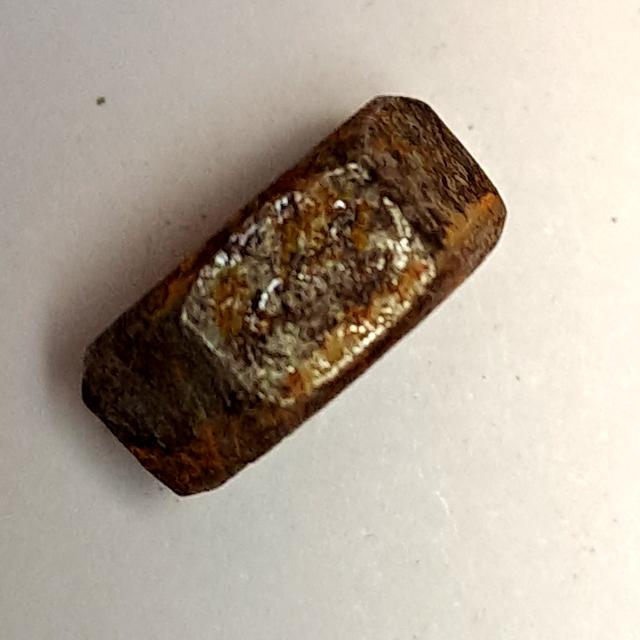Side_Rust: (66, 83, 514, 514)
